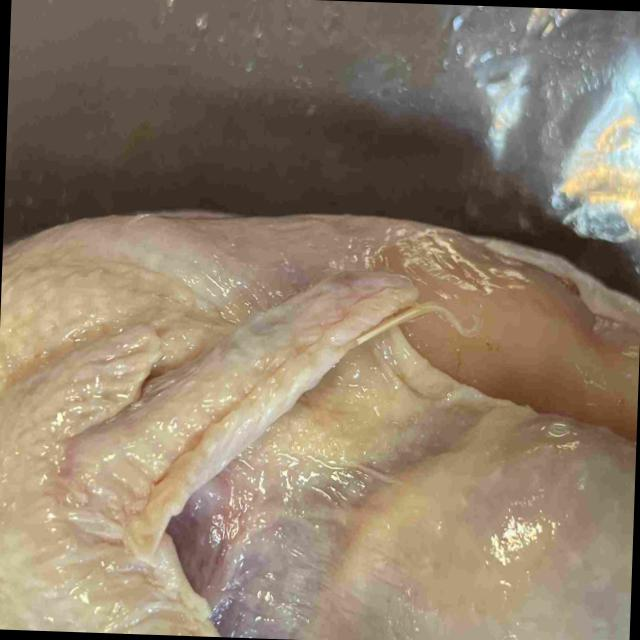leg: (306, 435, 636, 640), (511, 285, 640, 451)
wing: (0, 270, 416, 637)
